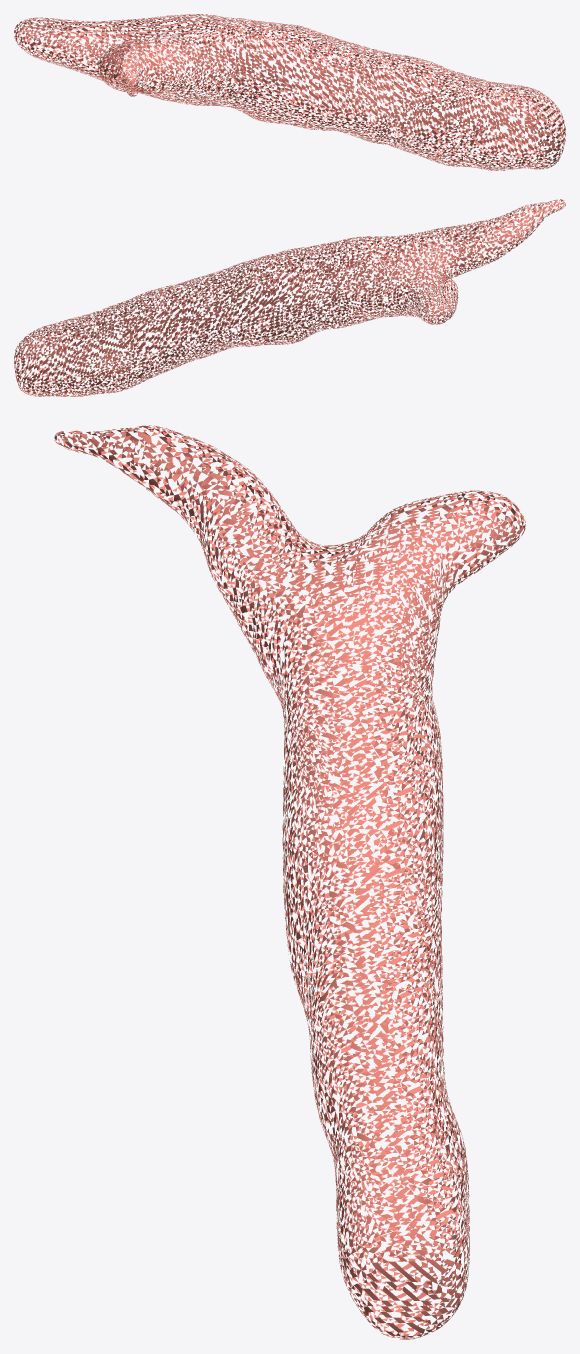
Rendered from diseased.glb.
3 renders of one model, top to bottom at view 1: azimuth 30°, elevation 25°; view 2: azimuth 150°, elevation 25°; view 3: azimuth 270°, elevation 25°, orthographic. The views are drawn at different scales.
Size of the model in its own units: 118 by 60.5 by 52.54.
